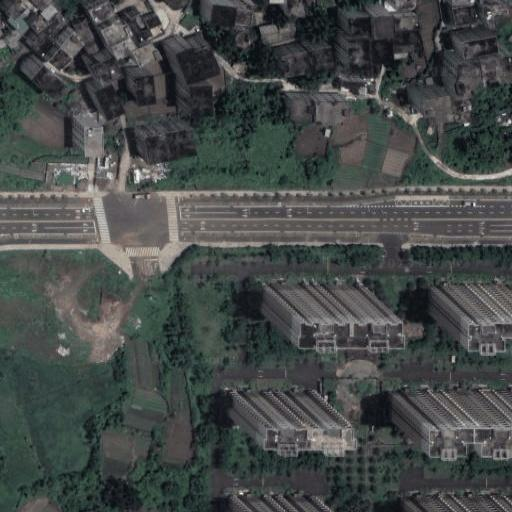building: (385, 387, 512, 415), (259, 281, 361, 309), (426, 282, 512, 310), (398, 494, 512, 512), (144, 129, 198, 164), (227, 391, 318, 411), (178, 45, 221, 87), (30, 64, 70, 103), (225, 495, 316, 512), (95, 85, 125, 122), (76, 19, 105, 56), (93, 58, 124, 89), (481, 56, 512, 86), (423, 96, 455, 125), (257, 21, 298, 43), (347, 41, 372, 75), (212, 5, 254, 25), (461, 36, 499, 58), (282, 52, 312, 79), (484, 0, 510, 31), (307, 47, 336, 74), (313, 101, 348, 123), (190, 86, 213, 118), (133, 43, 161, 69), (60, 33, 86, 59), (90, 1, 117, 25), (30, 32, 55, 57), (101, 21, 127, 45), (454, 3, 481, 26), (49, 48, 72, 72), (71, 118, 90, 147), (136, 77, 155, 106), (288, 102, 313, 124), (112, 39, 137, 60), (374, 17, 397, 39), (457, 62, 483, 81), (370, 40, 392, 62), (340, 81, 368, 98), (128, 15, 149, 36), (12, 16, 33, 37), (455, 81, 476, 101), (349, 17, 371, 36), (395, 15, 418, 31), (40, 4, 58, 22), (1, 33, 18, 51), (149, 24, 167, 40), (286, 0, 303, 15), (391, 45, 409, 59), (394, 0, 416, 9), (253, 12, 263, 25), (269, 0, 286, 5)
